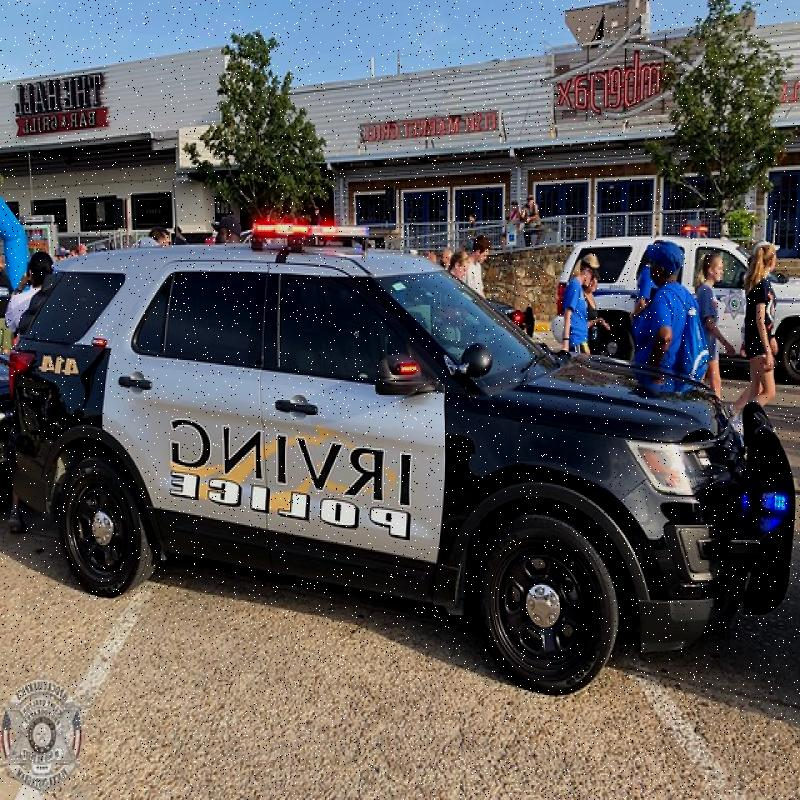AmbulanceSiren: (244, 198, 382, 254)
